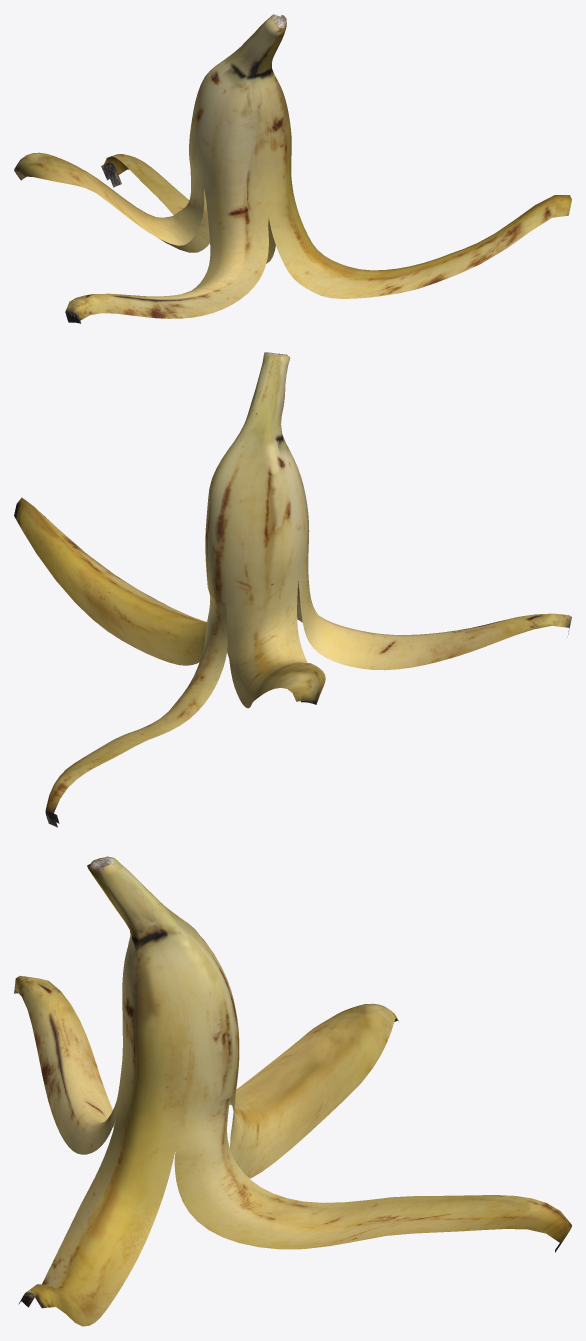
Rendered from Pisang.fbx.
3 renders of one model, top to bottom at view 1: azimuth 30°, elevation 25°; view 2: azimuth 150°, elevation 25°; view 3: azimuth 270°, elevation 25°, orthographic. The views are drawn at different scales.
Parts seen in each view (by area): view 1: Banana; view 2: Banana; view 3: Banana.
Boxes of the visible parts, box(x1,y1,x2,y2) form: Banana: box(14, 14, 571, 323); Banana: box(14, 352, 571, 827); Banana: box(14, 856, 571, 1326).
Size of the model in its own units: 59.86 by 34.76 by 46.12.
